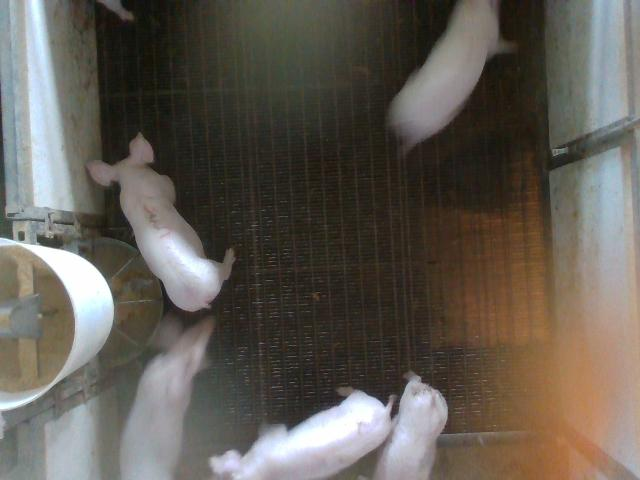pig-3: (86, 132, 235, 311)
